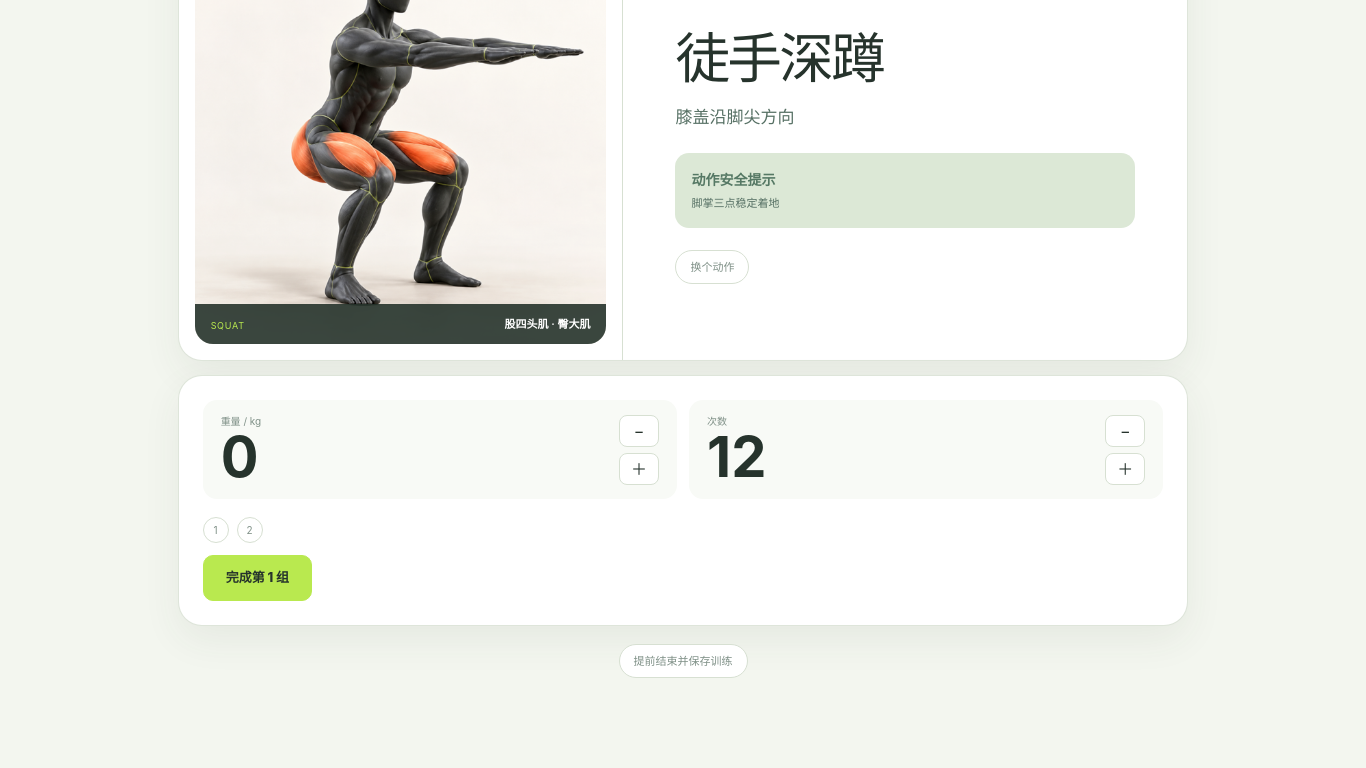
Test: WorkoutRunner › completes a set with one action and starts rest
(page scrolled)
Click the button "完成第 1 组".
click(257, 578)  # box x1=203 y1=555 x2=312 y2=601
(page scrolled)
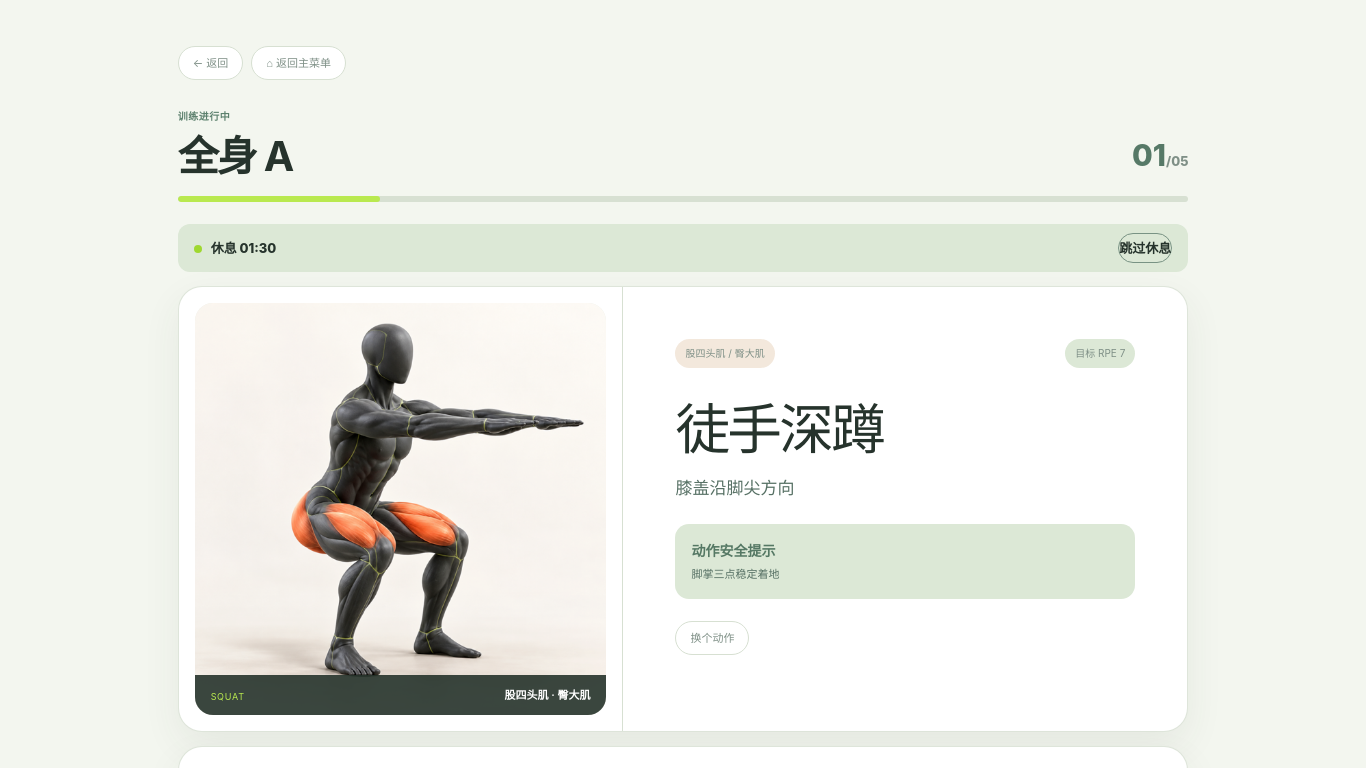
Check: the text "休息 01:30" is shown, box x1=194 y1=238 x2=276 y2=258
